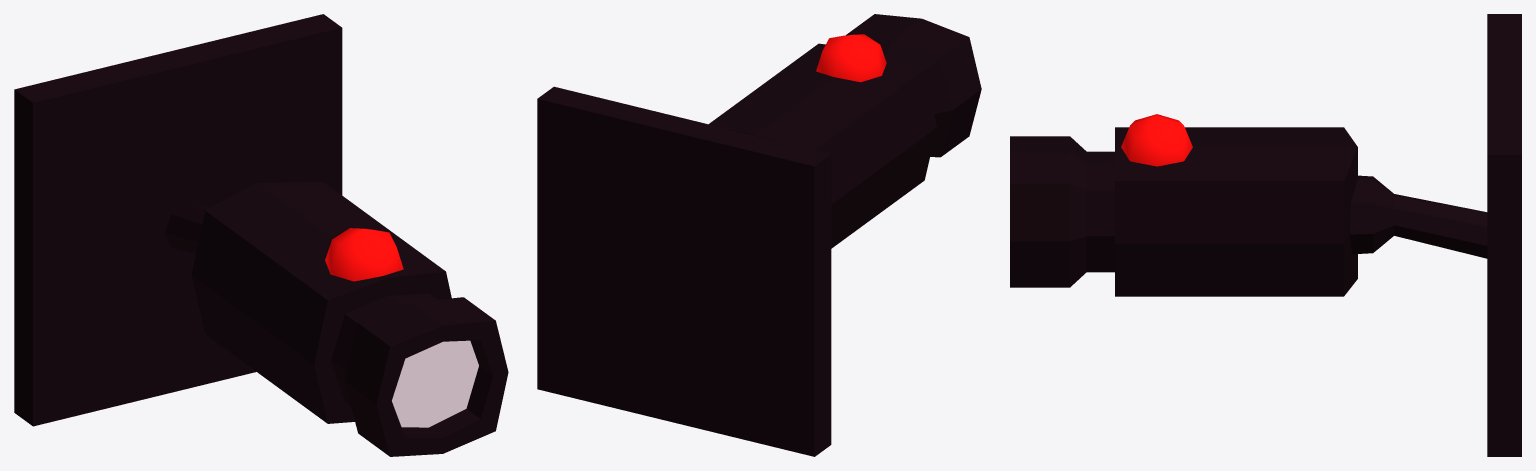
The model's file is Camera.gltf.
3 views of the same model, side by side, from view 1: azimuth 30°, elevation 25°; view 2: azimuth 150°, elevation 25°; view 3: azimuth 270°, elevation 25° (orthographic). The views are drawn at different scales.
Parts seen in each view (by area): view 1: Holder, Camera, Cube; view 2: Holder, Camera, Cube; view 3: Camera, Holder, Cube.
Boxes of the visible parts, left/top/right/bottom form: Holder: left=14, top=14, right=342, bottom=426; Camera: left=191, top=181, right=508, bottom=456; Cube: left=325, top=228, right=403, bottom=281; Holder: left=537, top=86, right=831, bottom=456; Camera: left=709, top=14, right=981, bottom=248; Cube: left=816, top=34, right=886, bottom=82; Camera: left=1010, top=127, right=1357, bottom=296; Holder: left=1349, top=14, right=1521, bottom=456; Cube: left=1121, top=114, right=1192, bottom=166.
Bounding box in the file's own units: 2 × 2 × 3.07.
